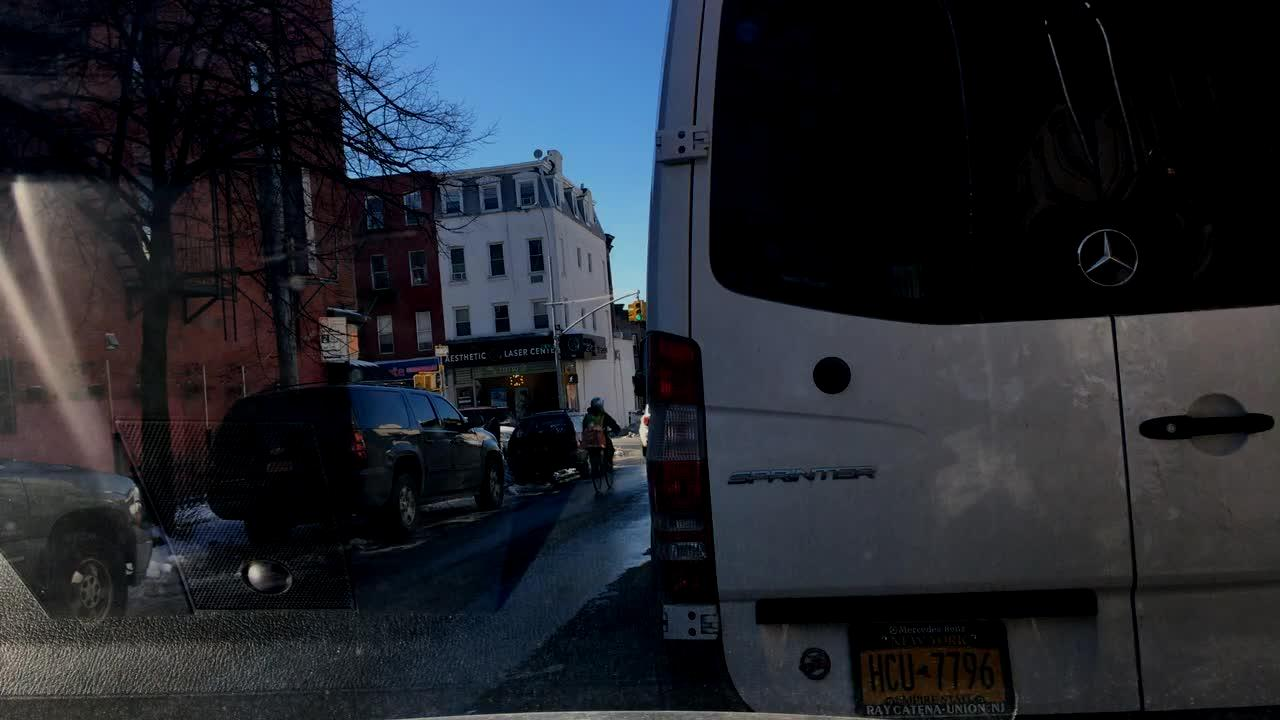Mercedes: (1072, 207, 1148, 294)
